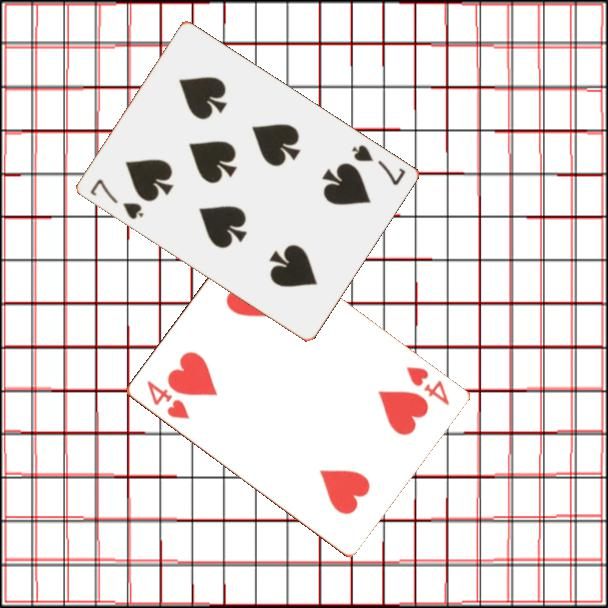h04: (401, 363, 452, 409), (143, 377, 192, 422)
s07: (86, 175, 146, 222), (348, 141, 408, 188)
